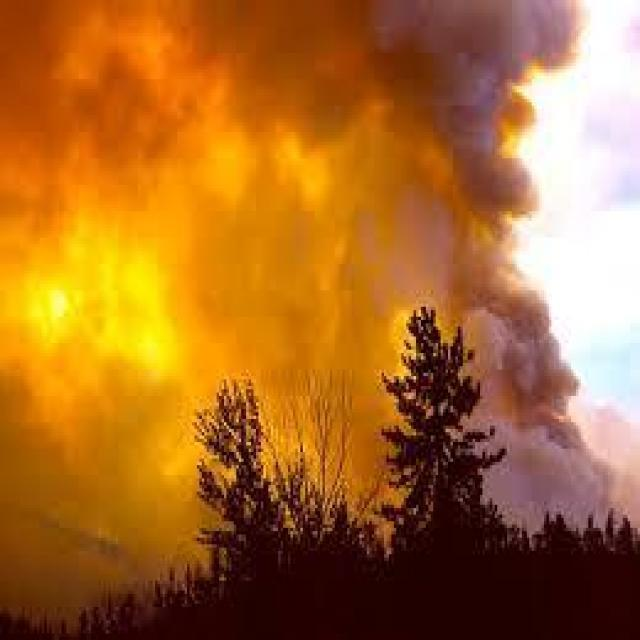Fire: (357, 297, 445, 531)
Smoke: (436, 0, 640, 537)
